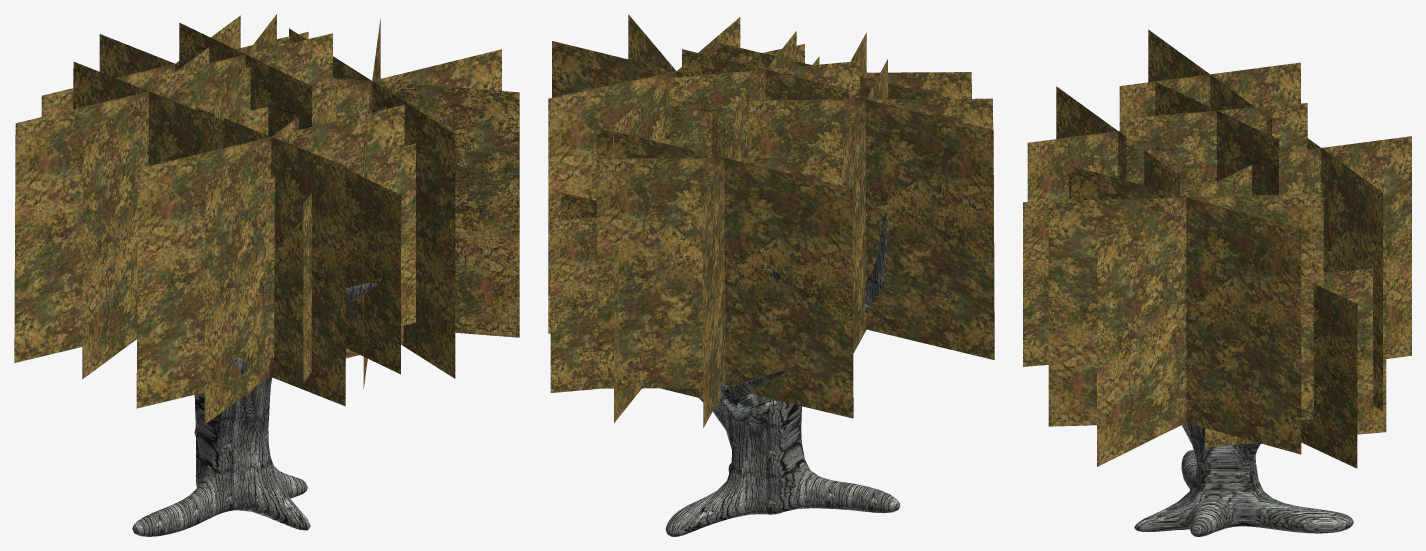
File: tree.obj
The picture shows the model from 3 angles, left to right: view 1: azimuth 30°, elevation 25°; view 2: azimuth 150°, elevation 25°; view 3: azimuth 270°, elevation 25°; orthographic projection. The views are drawn at different scales.
Visible parts, largest first — view 1: leaves, bush, body; view 2: leaves, bush, body; view 3: bush, leaves, body.
Boxes of the visible parts, left/top/right/bottom form: leaves: left=14, top=14, right=415, bottom=424; bush: left=242, top=18, right=519, bottom=388; body: left=132, top=283, right=376, bottom=536; leaves: left=550, top=31, right=994, bottom=427; bush: left=548, top=14, right=804, bottom=333; body: left=665, top=212, right=900, bottom=536; bush: left=1048, top=165, right=1323, bottom=466; leaves: left=1023, top=29, right=1411, bottom=468; body: left=1134, top=423, right=1353, bottom=536.
Bounding box in the file's own units: 17.71 × 16.07 × 13.68.
